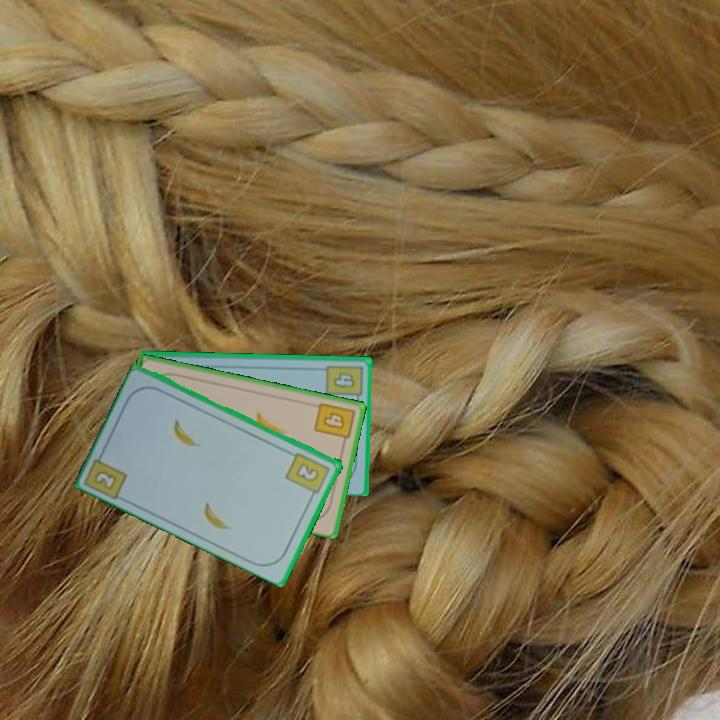2b: (282, 449, 333, 501), (93, 469, 120, 493)
4b: (311, 398, 358, 448), (323, 362, 365, 405)
